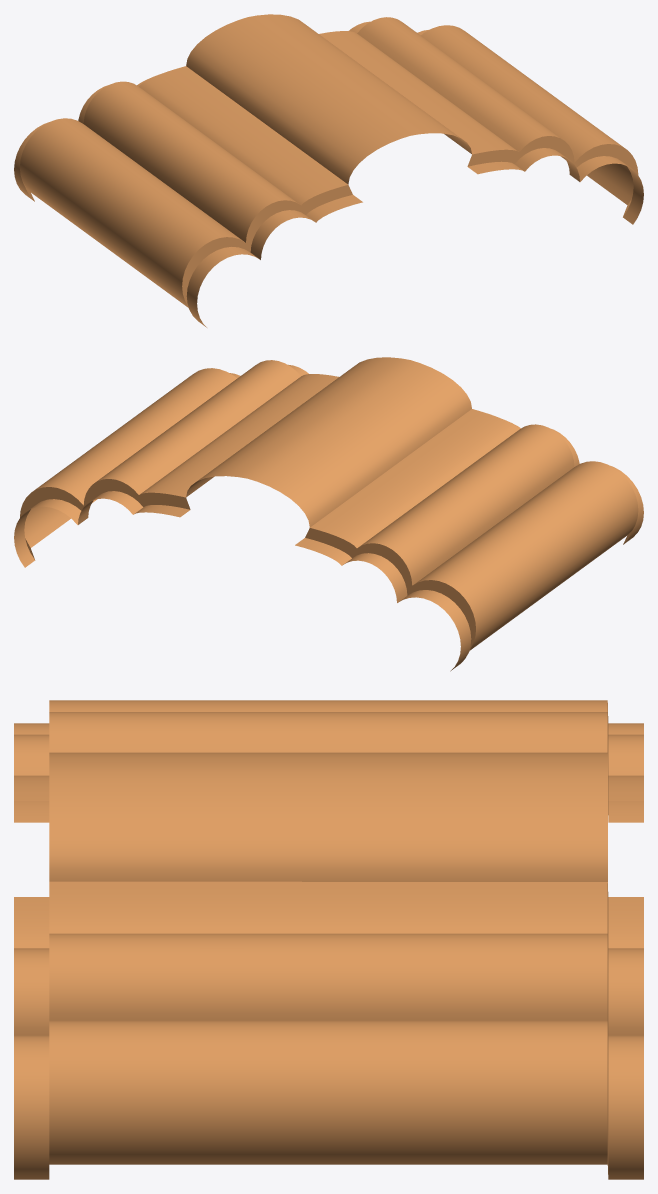
Rendered from ceiling.glb.
The picture shows the model from 3 angles, top to bottom: view 1: azimuth 30°, elevation 25°; view 2: azimuth 150°, elevation 25°; view 3: azimuth 270°, elevation 25°; orthographic projection. The views are drawn at different scales.
Visible parts, largest first — view 1: Circle.005; view 2: Circle.005; view 3: Circle.005.
Part boxes in pixels (<box>): Circle.005: <box>14,14,643,327</box>; Circle.005: <box>14,357,643,671</box>; Circle.005: <box>14,700,643,1179</box>.
Size of the model in its own units: 25.91 by 7.23 by 18.01.
